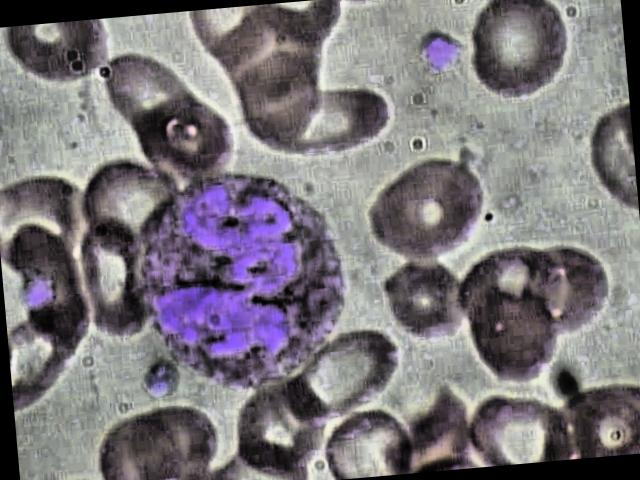Platelets: (403, 22, 468, 80), (130, 350, 179, 401), (18, 268, 58, 308)
RBC: (363, 148, 494, 274), (273, 322, 406, 434), (459, 0, 590, 109), (240, 84, 408, 165), (224, 57, 334, 158), (77, 146, 181, 243), (233, 372, 335, 469), (378, 261, 476, 351), (73, 222, 147, 341), (466, 298, 562, 388), (87, 414, 178, 480)
WBC: (136, 167, 350, 398)
